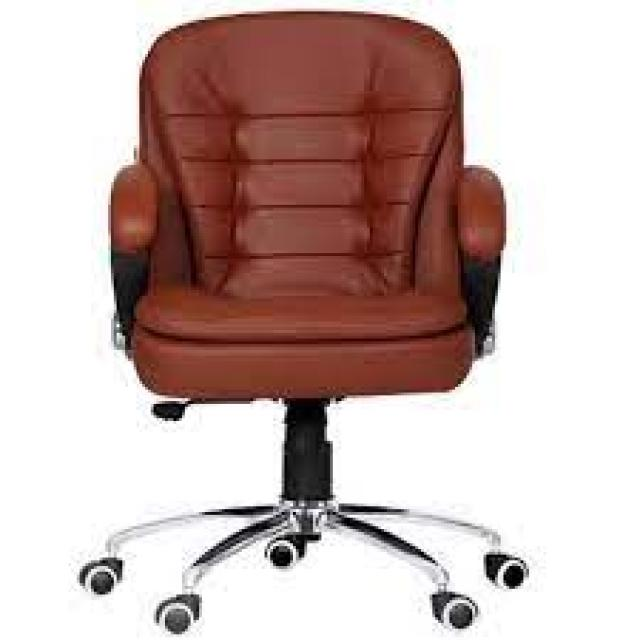chair: (51, 4, 584, 640)
